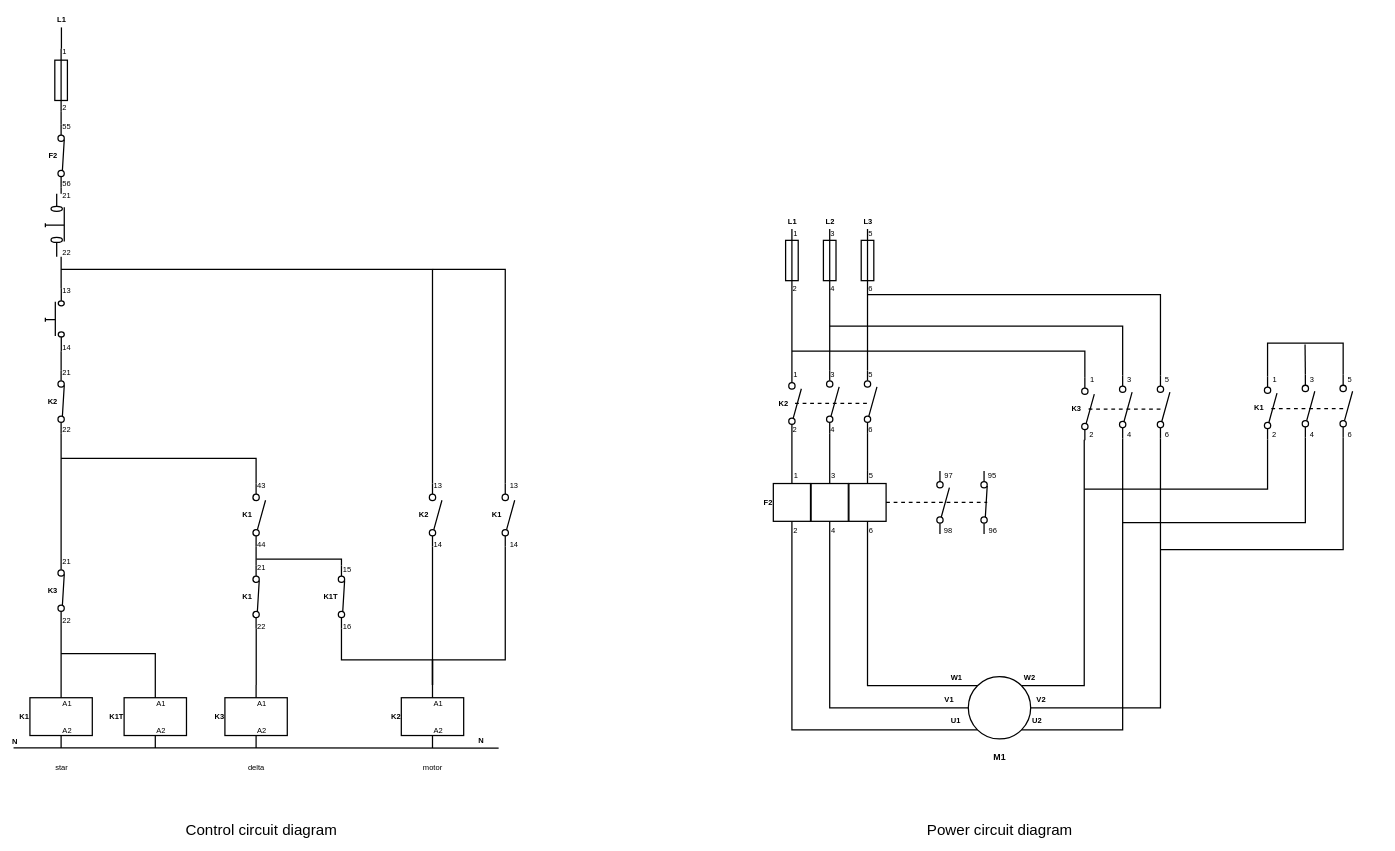
The diagram is 1395 pixels wide and 851 high, and some of its shapes have lost their labels. The centre of each missing label's shape, as x and y in pixels:
"F1" belongs at pixel 792 260.
"F3" belongs at pixel 61 80.
"M 3~" belongs at pixel 999 707.
"S1" belongs at pixel 54 225.
"S2" belongs at pixel 54 319.
